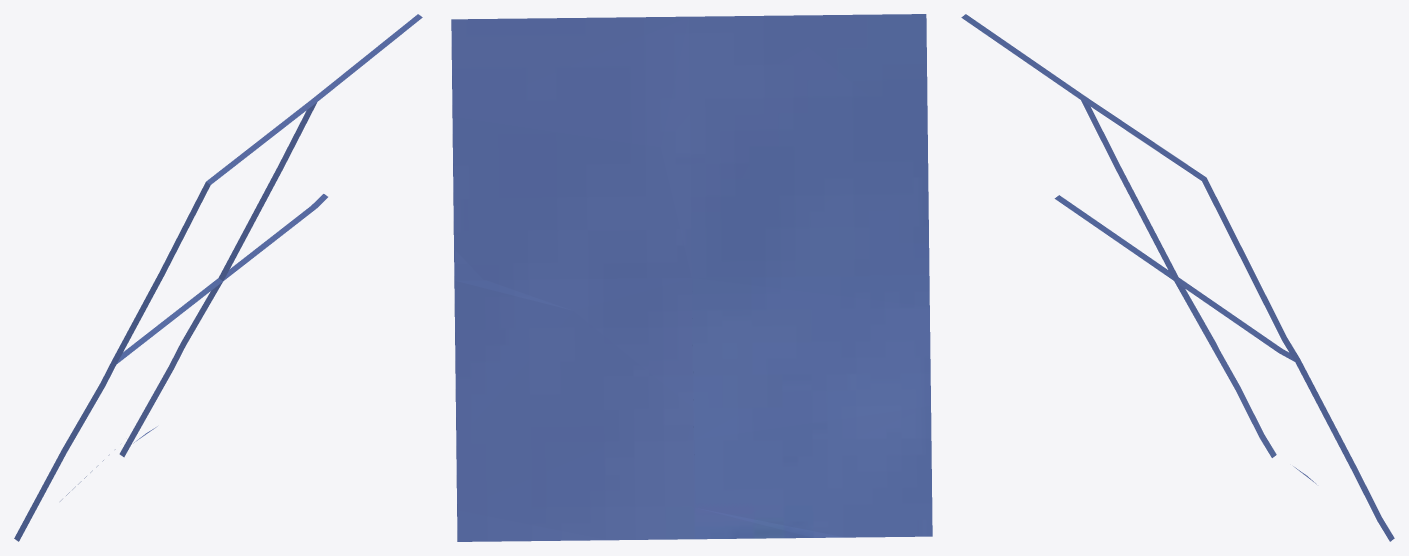
3 views of the same model, side by side, from view 1: azimuth 30°, elevation 25°; view 2: azimuth 150°, elevation 25°; view 3: azimuth 270°, elevation 25° (orthographic). The views are drawn at different scales.
Bounding box in the file's own units: 4926 × 4407 × 4204.
1 material, 1 textured.
